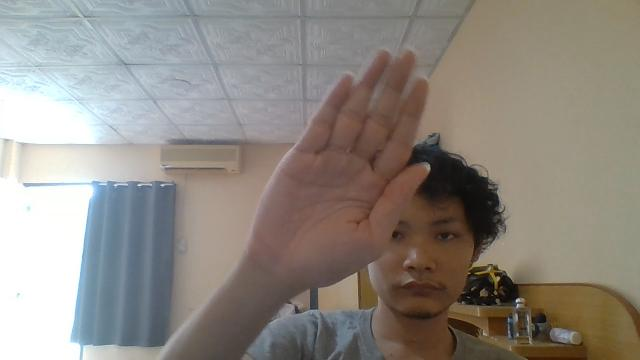Stop: (248, 46, 432, 292)
